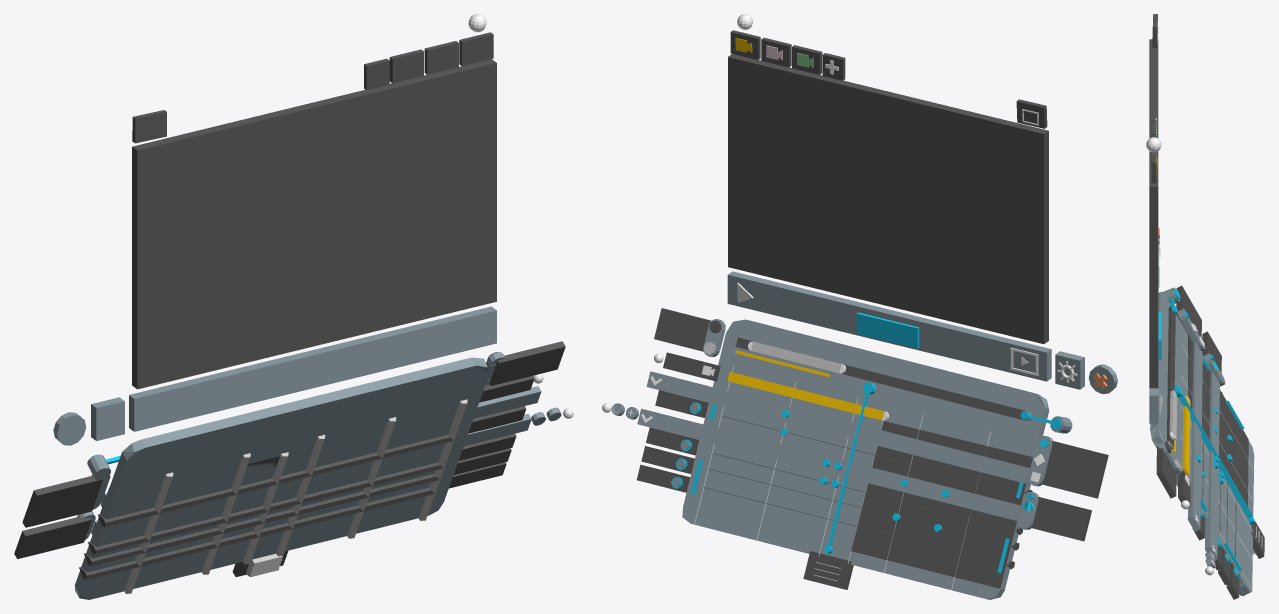
File: timeline-beta-slanted-by-gabriele-romagnoli-2vBuxYYe6sc.glb
The picture shows the model from 3 angles, left to right: view 1: azimuth 30°, elevation 25°; view 2: azimuth 150°, elevation 25°; view 3: azimuth 270°, elevation 25°; orthographic projection. The views are drawn at different scales.
Visible parts, largest first — view 1: group1131574689, group1753110205, group1324171753, group741990420, group2014498065, group210370664, group995867849, group118117692, group694641161, group518105120, group983057114, group1711536137 (+16 smaller); view 2: group1131574689, group1753110205, group805563088, group1324171753, group1711536137, group726540876, group118117692, group1758606707, group694641161, group518105120, group2083915322, group580606131 (+10 smaller); view 3: group1753110205, group1131574689, group805563088, group1711536137, group726540876, group1758606707, group1628702380, group518105120, group2083915322, group118117692, group1324171753, group694641161 (+13 smaller).
Part boxes in pixels (x1,y1,x2,y2): group1131574689: [132, 59, 496, 389]; group1753110205: [74, 357, 489, 599]; group1324171753: [129, 306, 496, 431]; group741990420: [88, 462, 443, 554]; group2014498065: [84, 474, 439, 566]; group210370664: [98, 435, 452, 527]; group995867849: [79, 487, 434, 580]; group118117692: [22, 475, 103, 527]; group694641161: [14, 516, 91, 558]; group518105120: [489, 341, 565, 385]; group983057114: [91, 397, 124, 440]; group1711536137: [101, 386, 541, 507]; group1131574689: [728, 54, 1048, 343]; group1753110205: [682, 319, 1049, 599]; group805563088: [850, 421, 1032, 588]; group1324171753: [727, 271, 1051, 381]; group1711536137: [646, 371, 1030, 483]; group726540876: [637, 408, 1020, 520]; group118117692: [1041, 441, 1108, 498]; group1758606707: [736, 337, 1027, 420]; group694641161: [1030, 496, 1091, 541]; group518105120: [654, 308, 711, 351]; group2083915322: [727, 372, 884, 420]; group580606131: [856, 312, 919, 348]; group1753110205: [1150, 291, 1254, 596]; group1131574689: [1149, 39, 1158, 388]; group805563088: [1188, 334, 1248, 506]; group1711536137: [1187, 342, 1202, 531]; group726540876: [1205, 372, 1219, 559]; group1758606707: [1166, 306, 1175, 446]; group1628702380: [1178, 387, 1252, 518]; group518105120: [1156, 446, 1176, 498]; group2083915322: [1182, 396, 1190, 476]; group118117692: [1176, 285, 1201, 337]; group1324171753: [1149, 247, 1158, 423]; group694641161: [1202, 331, 1221, 372].
Size of the model in its own units: 1.76 by 1.71 by 0.3858.
